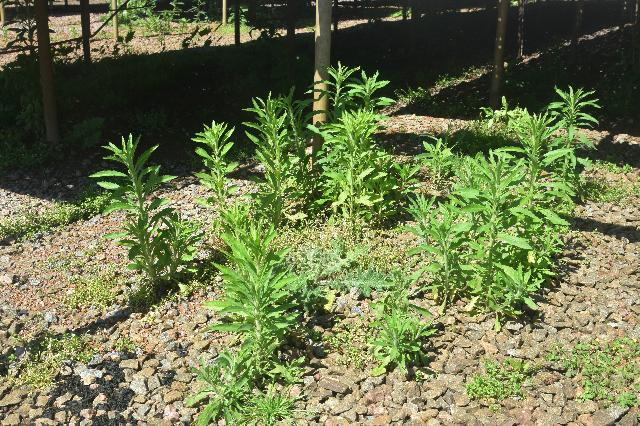MalezaMontesDelPlata: (214, 193, 301, 375), (318, 58, 396, 243), (93, 132, 169, 300), (512, 109, 576, 280), (470, 139, 526, 318), (358, 267, 439, 382), (541, 83, 607, 201), (405, 189, 467, 313), (539, 335, 639, 411), (293, 236, 407, 297), (245, 93, 292, 220), (7, 329, 94, 395), (194, 114, 241, 235), (182, 345, 252, 425), (457, 348, 539, 407), (60, 242, 124, 317), (283, 86, 319, 208), (0, 194, 90, 241), (403, 125, 470, 186), (165, 207, 207, 283), (468, 99, 534, 139), (251, 378, 304, 426)
